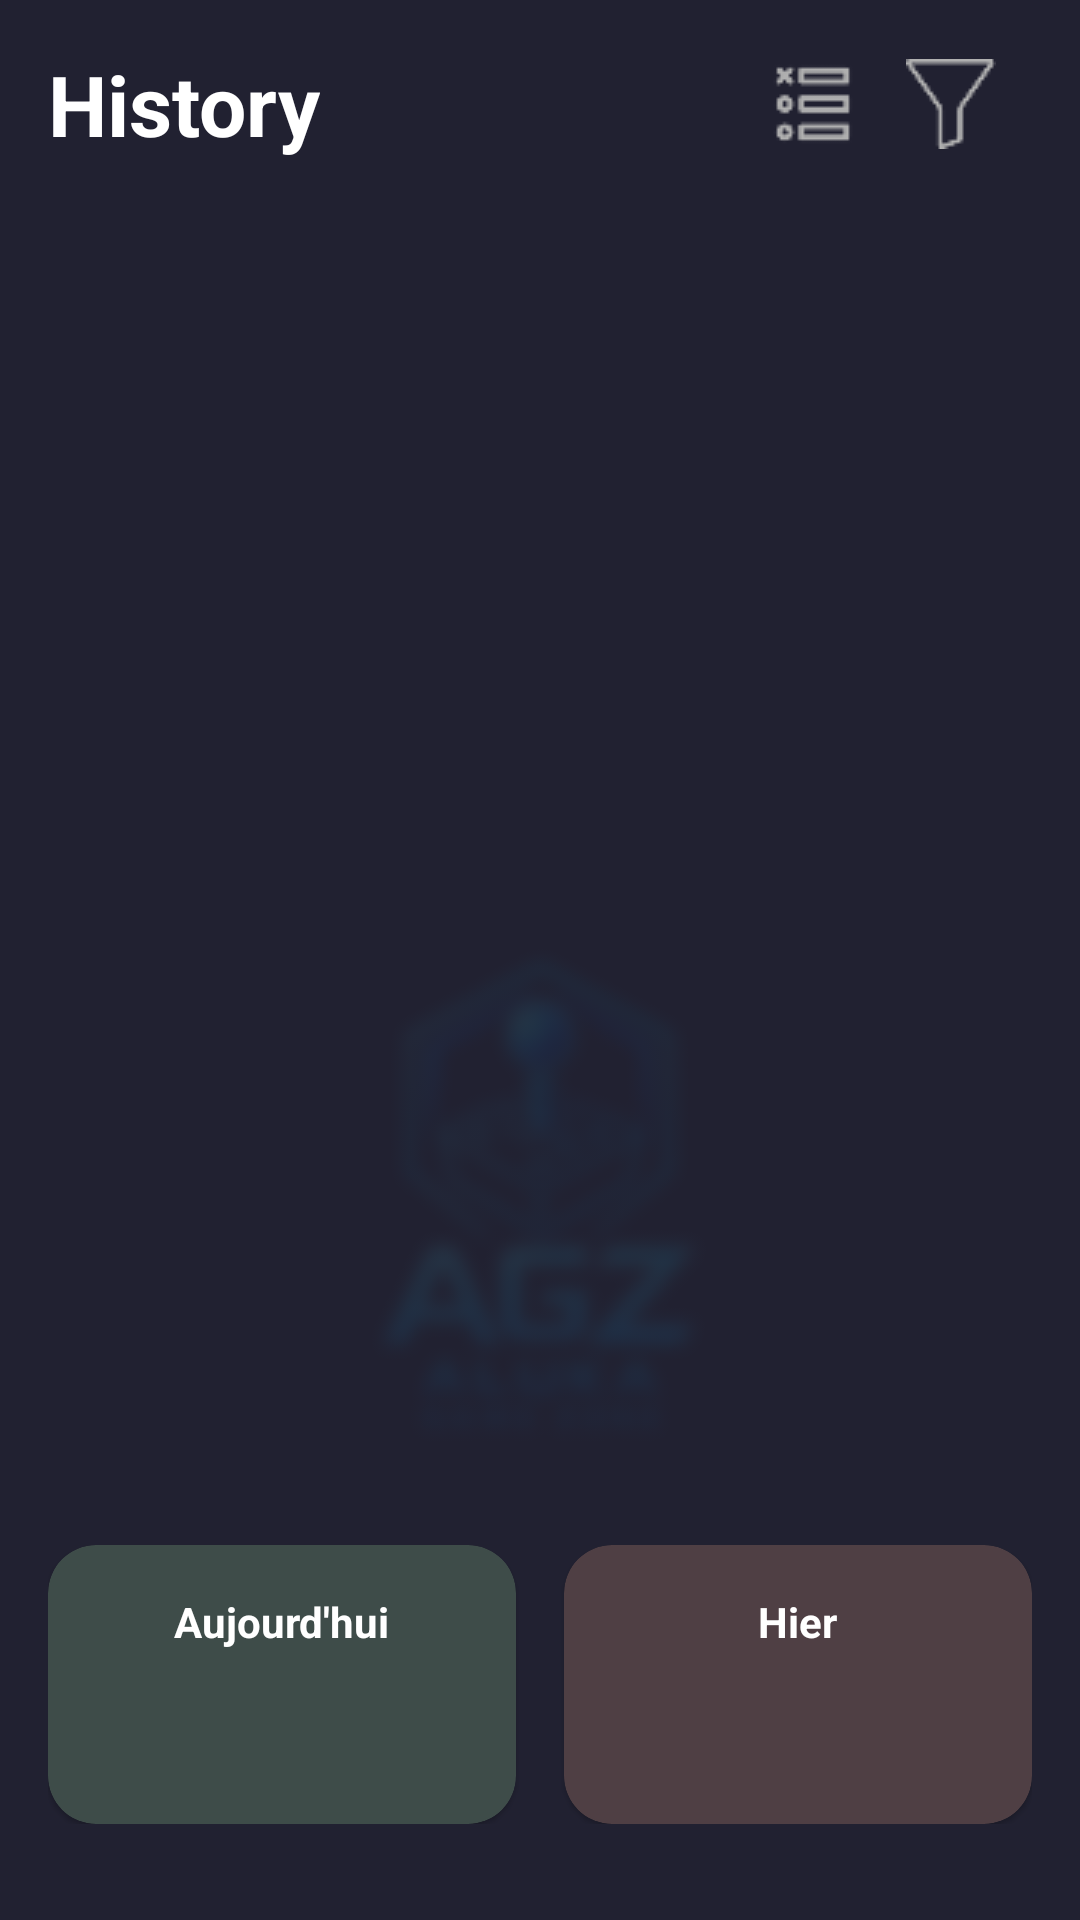

Icon click points for this 1080 x 1920 phone screenshot, format (x,y):
filter: (951,104)
list: (813,104)
